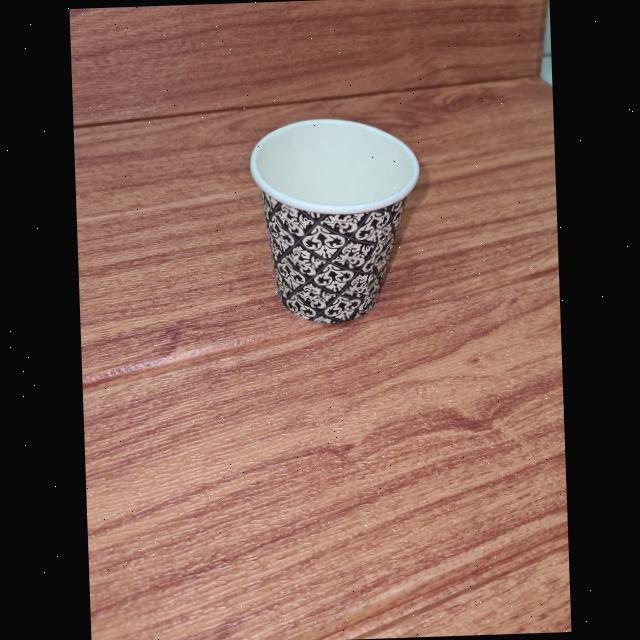trash: (247, 111, 433, 325)
